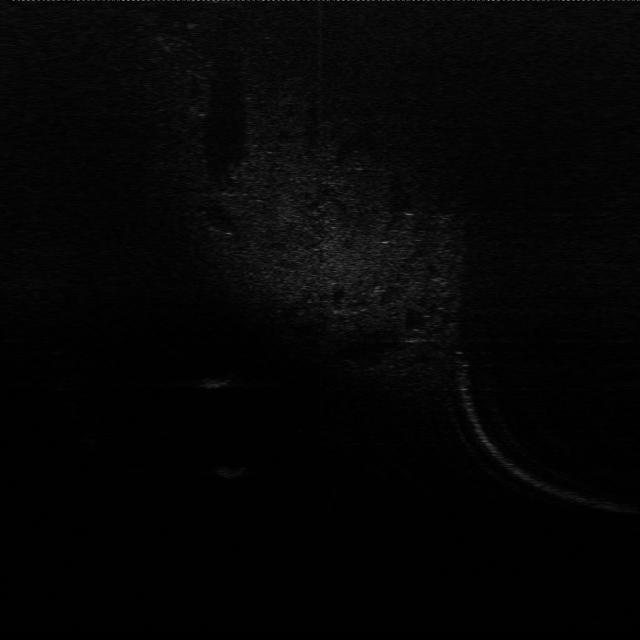cube: (208, 460, 260, 479)
square cage: (198, 366, 236, 390)
